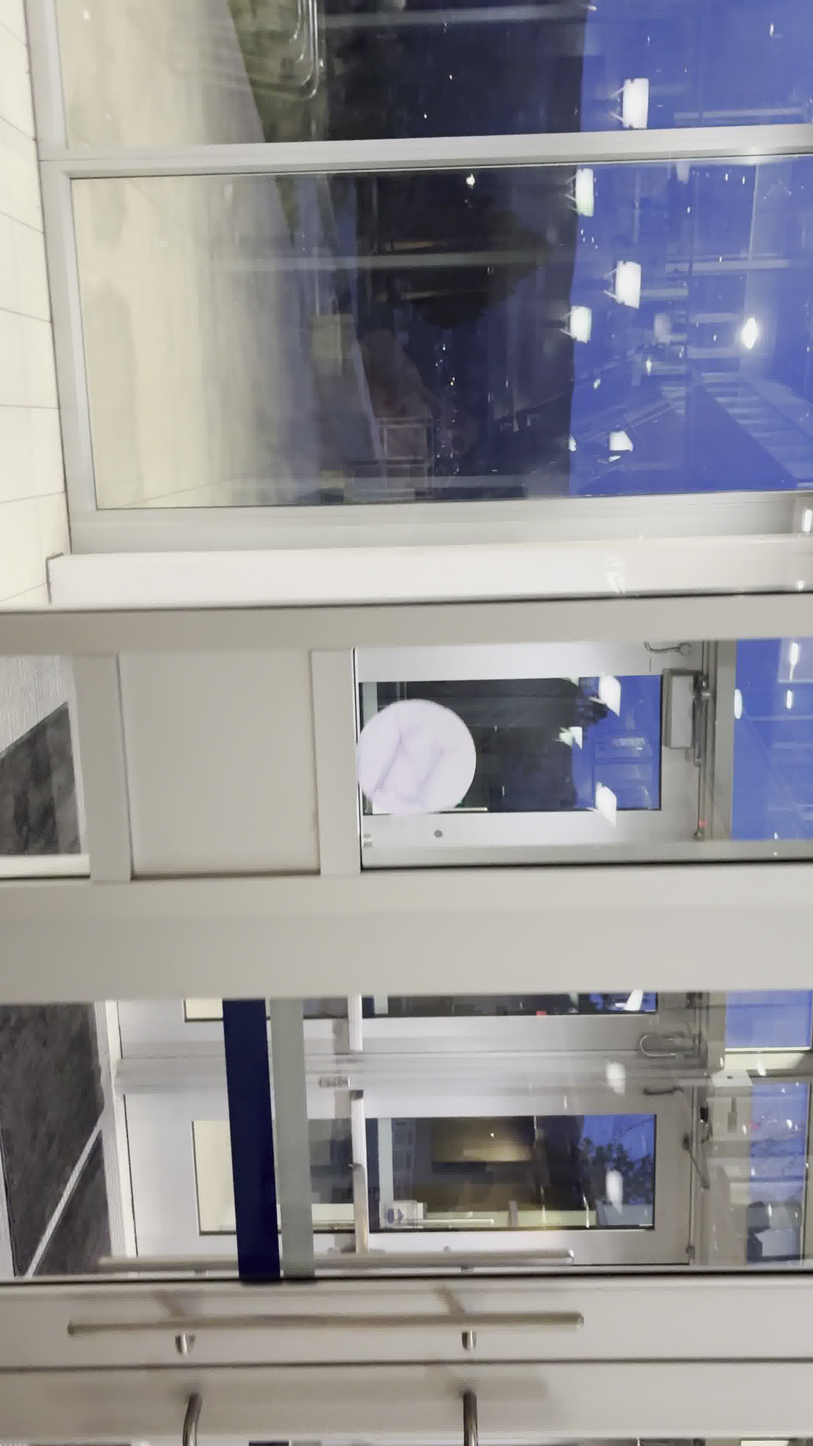Target: (352, 698, 479, 821), (350, 758, 352, 760)
